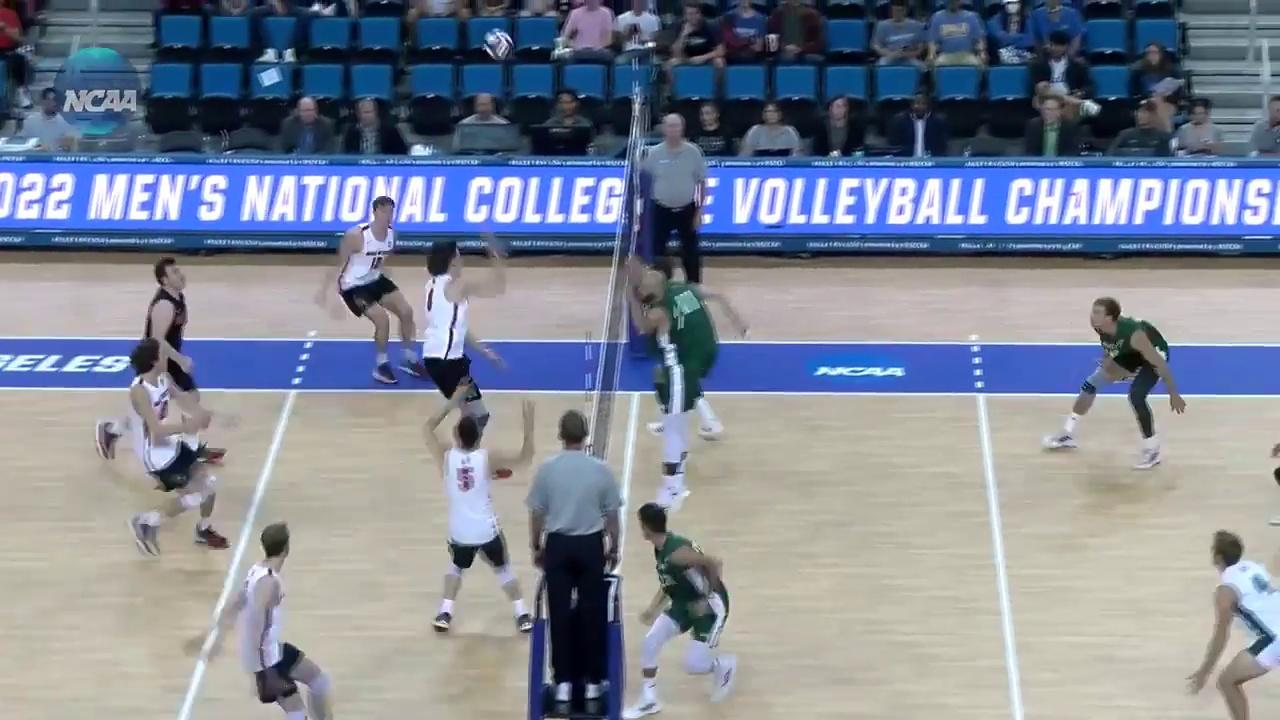player: (95, 257, 227, 465), (204, 522, 333, 720), (1043, 297, 1188, 468), (626, 505, 740, 717), (427, 410, 530, 639), (126, 334, 230, 559), (422, 234, 505, 478), (645, 256, 746, 440), (1186, 529, 1280, 718), (334, 197, 429, 382), (632, 269, 697, 510)
refree: (520, 408, 621, 712), (643, 112, 706, 308)
